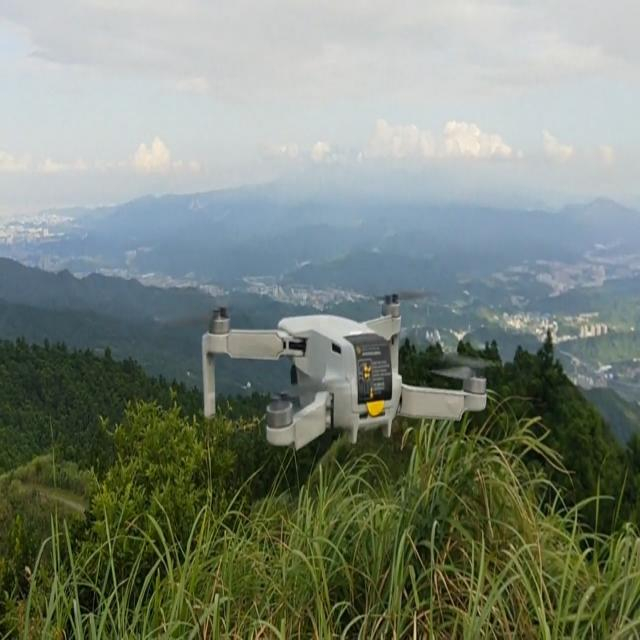Drone: (180, 284, 492, 448)
